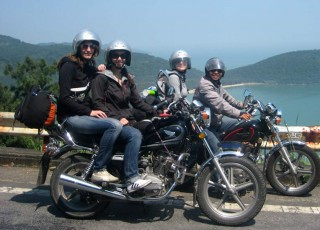helmet: (103, 34, 162, 149), (199, 55, 263, 147), (57, 26, 105, 108), (157, 42, 201, 103)
